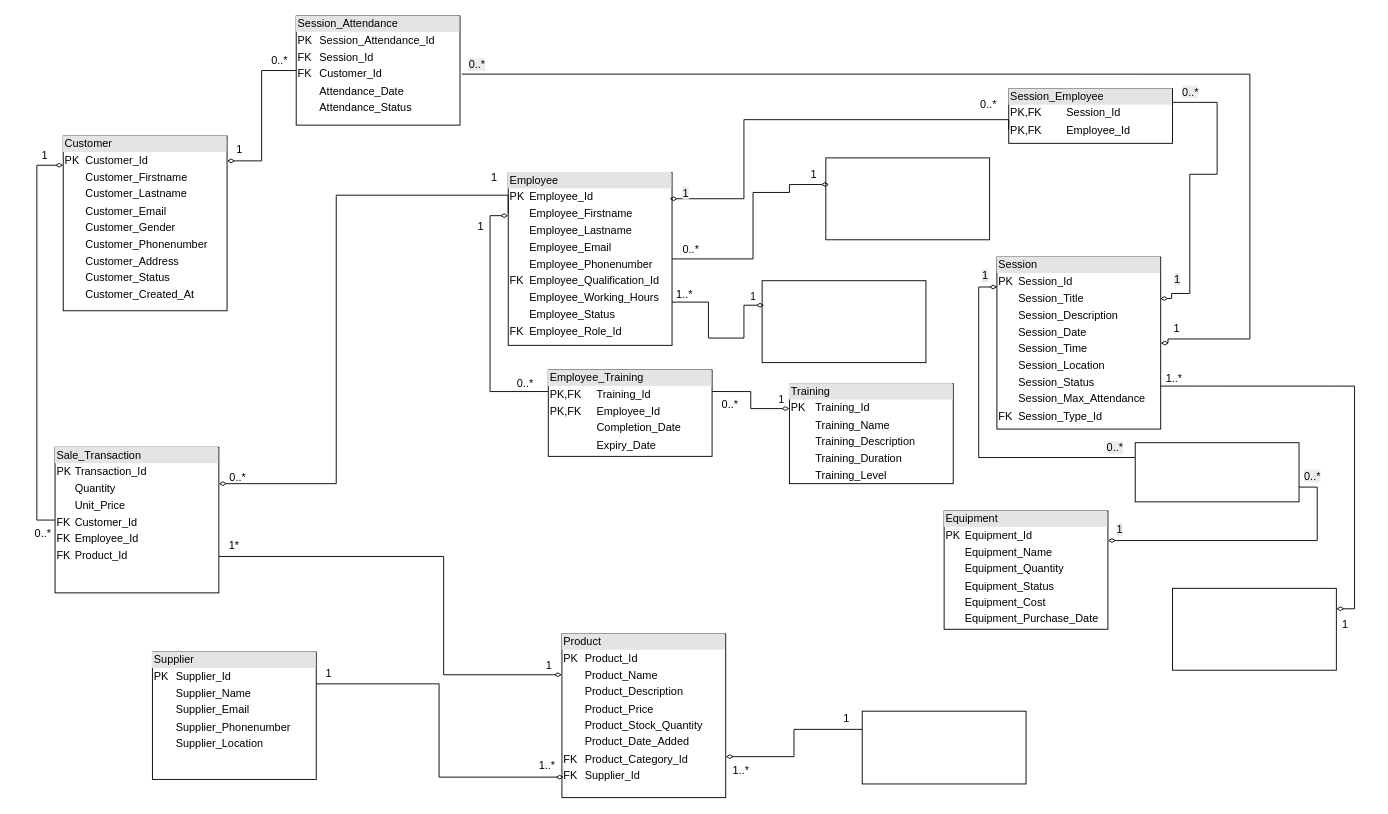
This 1388x814 diagram has some shape labels left out. The centre of each missing label's shape, as x and y in pixels:
Employee_Qualification PK Employee_Qualification_Id Qualification_name: the point at 907,198
Employee_Role PK Employee_Role_Id Role_Name Role_Description Role_Date_Created: the point at 843,321
Product_Category PK Product_Category_Id Category_Name Category_Date_Created: the point at 943,747
Session _Equipment PK/FK Session_Id PK/FK Equipment_Id: the point at 1216,472
Session_Type PK Session_Type_Id Session_Name Session_Description: the point at 1254,628
